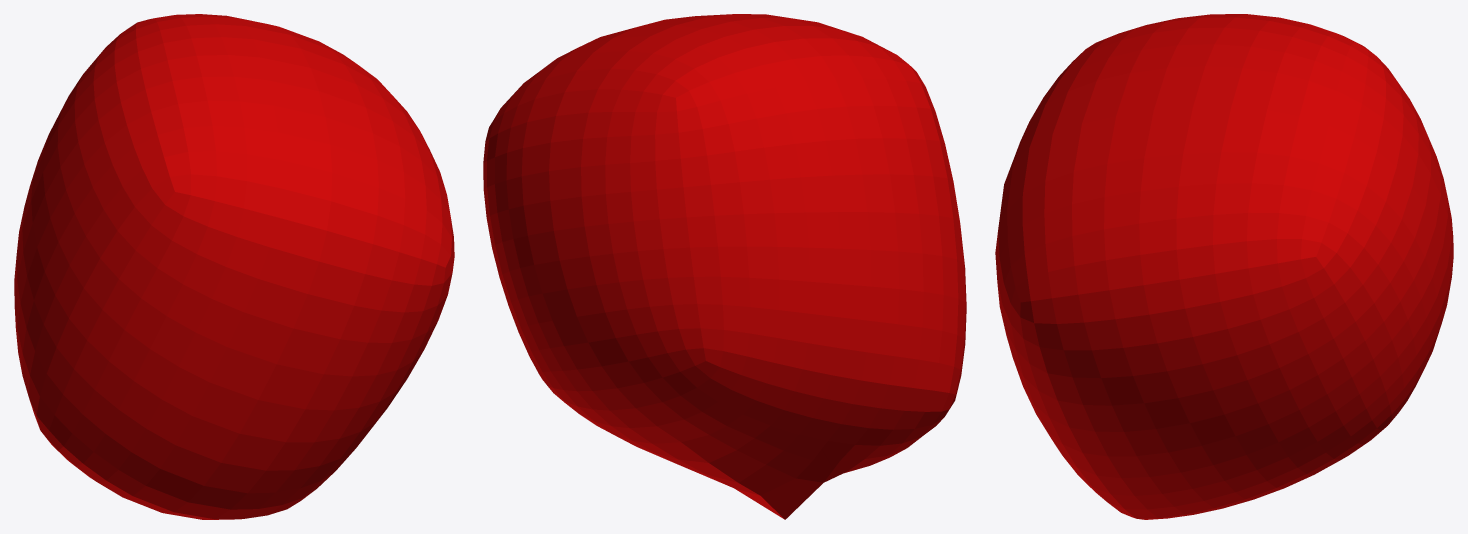
The model's file is head.obj.
3 renders of one model, left to right at view 1: azimuth 30°, elevation 25°; view 2: azimuth 150°, elevation 25°; view 3: azimuth 270°, elevation 25°, orthographic. The views are drawn at different scales.
Parts seen in each view (by area): view 1: head; view 2: head; view 3: head.
Part boxes in pixels (x1,y1,x2,y2): head: (14, 14, 454, 519); head: (483, 14, 966, 519); head: (995, 14, 1453, 519).
Size of the model in its own units: 0.7819 by 0.8272 by 0.7313.
